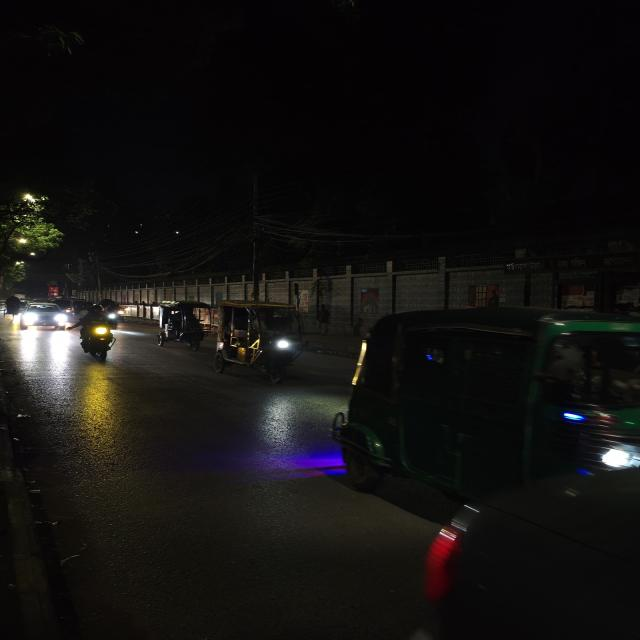car: (18, 299, 78, 332)
cng: (344, 300, 640, 520)
motorcycle: (75, 302, 124, 363)
rickshaw: (211, 301, 314, 384), (152, 302, 215, 352), (2, 295, 26, 320)
